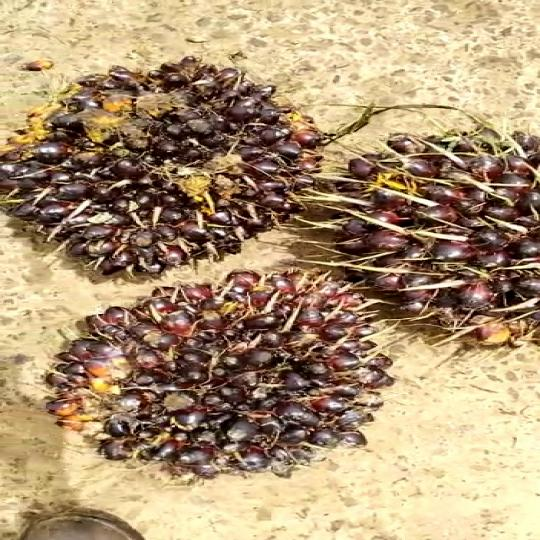kurang masak: (38, 269, 412, 497), (0, 51, 311, 273), (287, 127, 540, 351)
